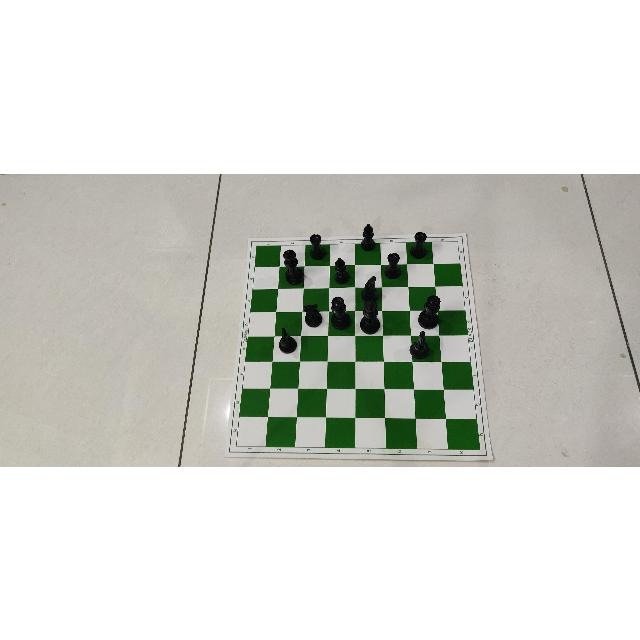black-bishop: (361, 275, 384, 301), (332, 258, 352, 286), (359, 221, 377, 251), (360, 222, 376, 251)
black-king: (280, 247, 306, 285), (282, 248, 304, 284), (360, 298, 380, 333)
black-knight: (407, 330, 430, 358), (409, 329, 429, 358), (278, 326, 298, 354), (361, 274, 379, 302), (302, 304, 323, 328), (303, 303, 323, 327), (279, 327, 297, 353)
black-queen: (359, 298, 383, 334), (329, 295, 353, 330), (417, 293, 440, 328), (331, 295, 351, 329)
black-rook: (417, 294, 443, 330), (382, 250, 402, 278), (409, 230, 428, 258), (384, 251, 402, 279), (310, 233, 328, 260), (409, 230, 426, 258), (309, 232, 326, 259)
